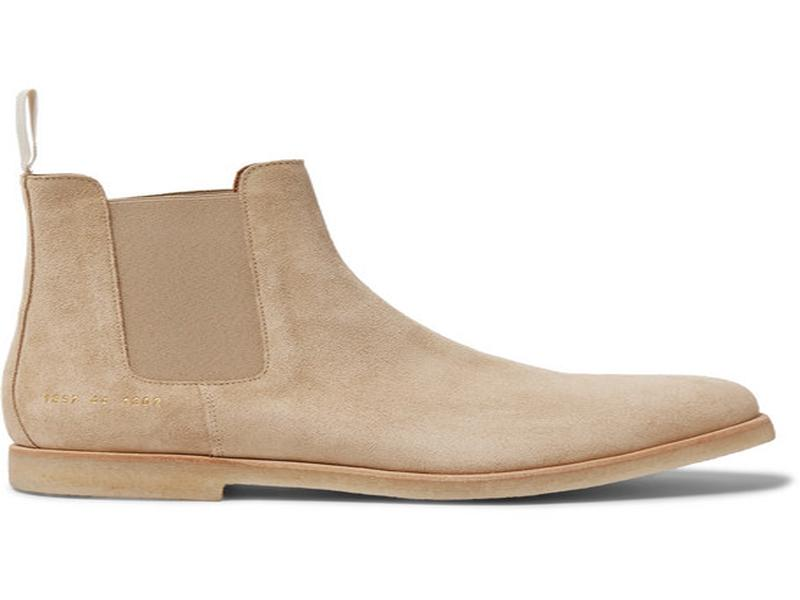shoes_men_chelsea_chelseaboots_suede_none_none_beige_none: (4, 169, 800, 518)
